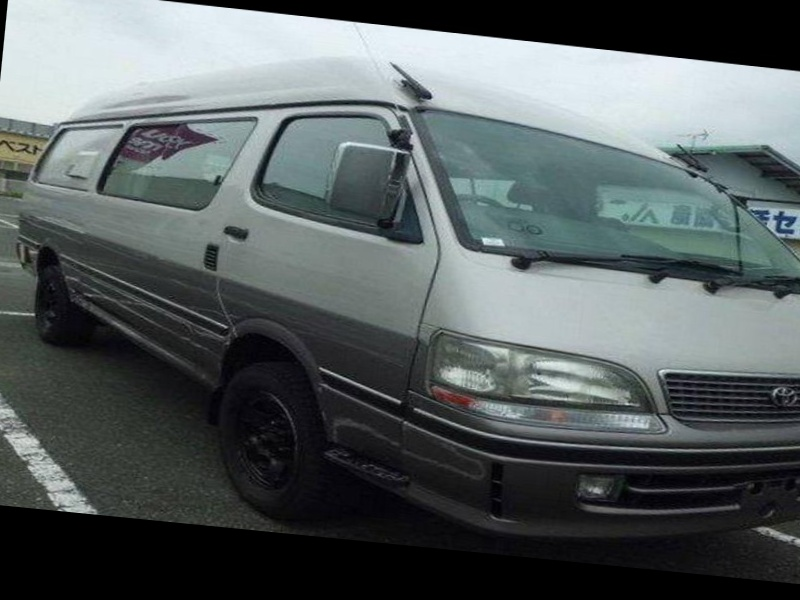van: (0, 26, 800, 578)
